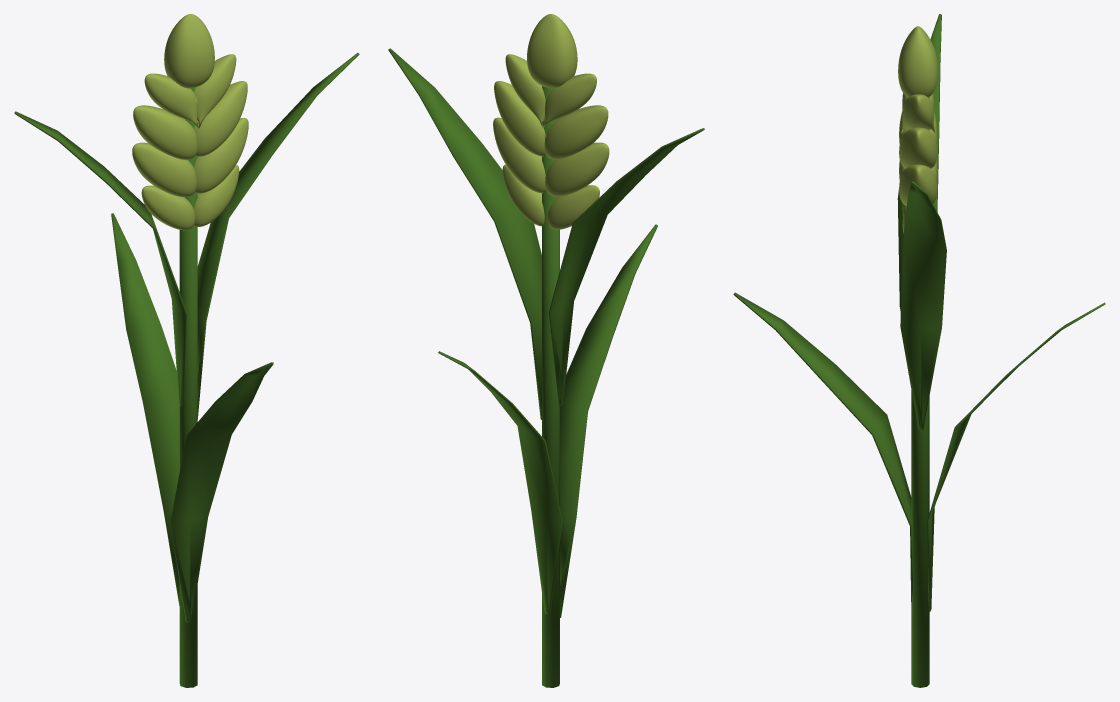
The model's file is TrigoVerde.fbx.
3 views of the same model, side by side, from view 1: azimuth 30°, elevation 25°; view 2: azimuth 150°, elevation 25°; view 3: azimuth 270°, elevation 25° (orthographic). The views are drawn at different scales.
Parts seen in each view (by area): view 1: TrigoVerde; view 2: TrigoVerde; view 3: TrigoVerde.
Part boxes in pixels (left/top/right/bottom): TrigoVerde: left=14, top=14, right=359, bottom=687; TrigoVerde: left=388, top=14, right=704, bottom=687; TrigoVerde: left=733, top=14, right=1105, bottom=687.
Bounding box in the file's own units: 38.73 × 74.98 × 38.54.
